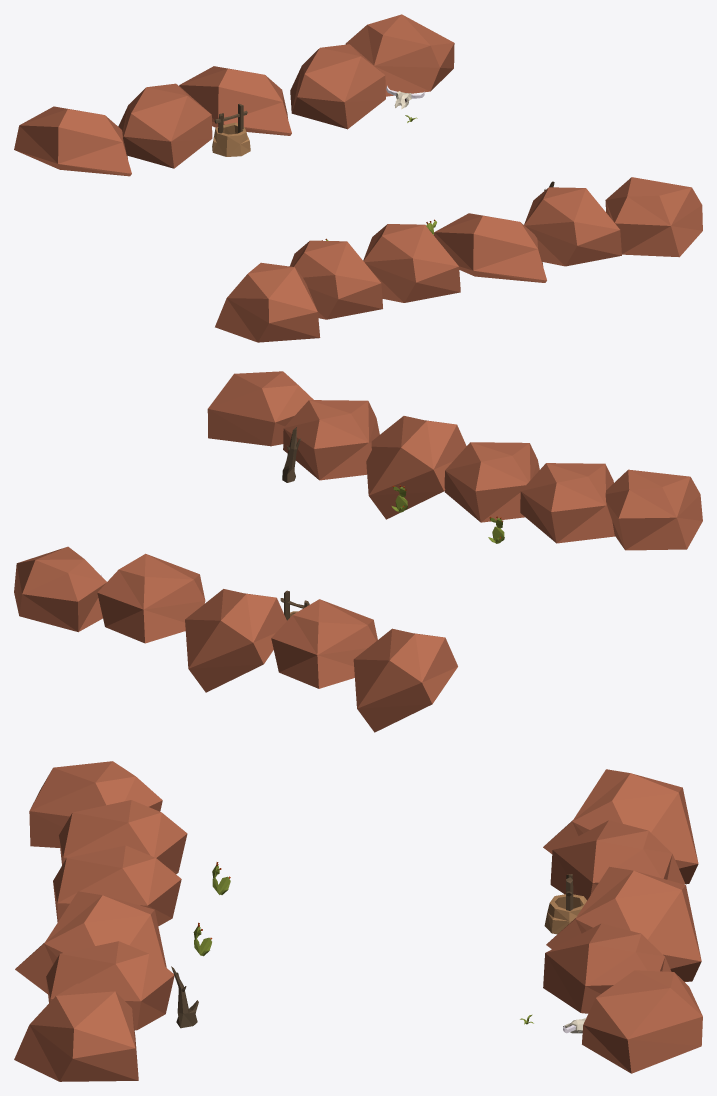
Rendered from Obstracle1.fbx.
3 renders of one model, top to bottom at view 1: azimuth 30°, elevation 25°; view 2: azimuth 150°, elevation 25°; view 3: azimuth 270°, elevation 25°, orthographic. The views are drawn at different scales.
Parts seen in each view (by area): view 1: Flat_Rock_01__19_, Flat_Rock_01__15_, Flat_Rock_01__5_, Flat_Rock_01__7_, Flat_Rock_01__18_, Flat_Rock_01__3_, Flat_Rock_01__16_, Flat_Rock_01__13_, Flat_Rock_01__4_, Flat_Rock_01__17_, Flat_Rock_01__6_, Flat_Well_01; view 2: Flat_Rock_01__7_, Flat_Rock_01__6_, Flat_Rock_01__5_, Flat_Rock_01__4_, Flat_Rock_01__19_, Flat_Rock_01__3_, Flat_Rock_01__17_, Flat_Rock_01__18_, Flat_Rock_01__13_, Flat_Rock_01__16_, Flat_Rock_01__15_; view 3: Flat_Rock_01__15_, Flat_Rock_01__13_, Flat_Rock_01__6_, Flat_Rock_01__7_, Flat_Rock_01__5_, Flat_Rock_01__4_, Flat_Rock_01__18_, Flat_Rock_01__16_, Flat_Rock_01__3_, Flat_Rock_01__19_, Flat_Rock_01__17_, Flat_Well_01 (+1 smaller).
Part boxes in pixels (x1,y1,x2,y2): Flat_Rock_01__19_: (215, 262, 320, 342); Flat_Rock_01__15_: (605, 177, 702, 257); Flat_Rock_01__5_: (290, 44, 385, 129); Flat_Rock_01__7_: (14, 106, 131, 176); Flat_Rock_01__18_: (524, 187, 621, 266); Flat_Rock_01__3_: (118, 83, 212, 168); Flat_Rock_01__16_: (363, 224, 460, 302); Flat_Rock_01__13_: (345, 14, 454, 96); Flat_Rock_01__4_: (433, 213, 546, 282); Flat_Rock_01__17_: (289, 240, 382, 319); Flat_Rock_01__6_: (179, 66, 291, 135); Flat_Well_01: (212, 103, 250, 156); Flat_Rock_01__7_: (353, 628, 457, 732); Flat_Rock_01__6_: (185, 589, 286, 692); Flat_Rock_01__5_: (97, 553, 205, 643); Flat_Rock_01__4_: (366, 416, 466, 519); Flat_Rock_01__19_: (605, 469, 702, 550); Flat_Rock_01__3_: (271, 599, 377, 688); Flat_Rock_01__17_: (520, 463, 615, 543); Flat_Rock_01__18_: (283, 400, 379, 480); Flat_Rock_01__13_: (14, 546, 106, 632); Flat_Rock_01__16_: (444, 442, 539, 522); Flat_Rock_01__15_: (207, 371, 313, 446); Flat_Rock_01__15_: (14, 983, 138, 1081); Flat_Rock_01__13_: (582, 970, 702, 1073); Flat_Rock_01__6_: (546, 866, 701, 981); Flat_Rock_01__7_: (543, 769, 698, 884); Flat_Rock_01__5_: (543, 923, 671, 1013); Flat_Rock_01__4_: (15, 891, 166, 993); Flat_Rock_01__18_: (46, 941, 174, 1030); Flat_Rock_01__16_: (53, 845, 181, 926); Flat_Rock_01__3_: (550, 820, 684, 900); Flat_Rock_01__19_: (29, 761, 162, 847); Flat_Rock_01__17_: (58, 800, 187, 873); Flat_Well_01: (544, 874, 586, 934).
Size of the model in its own units: 12642 by 2119 by 13049.
1 material, 1 textured.
